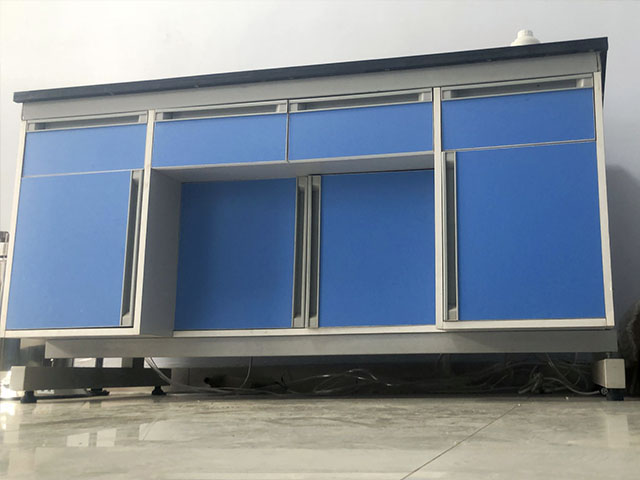cabinet: (1, 32, 632, 358)
wire: (156, 362, 602, 400)
